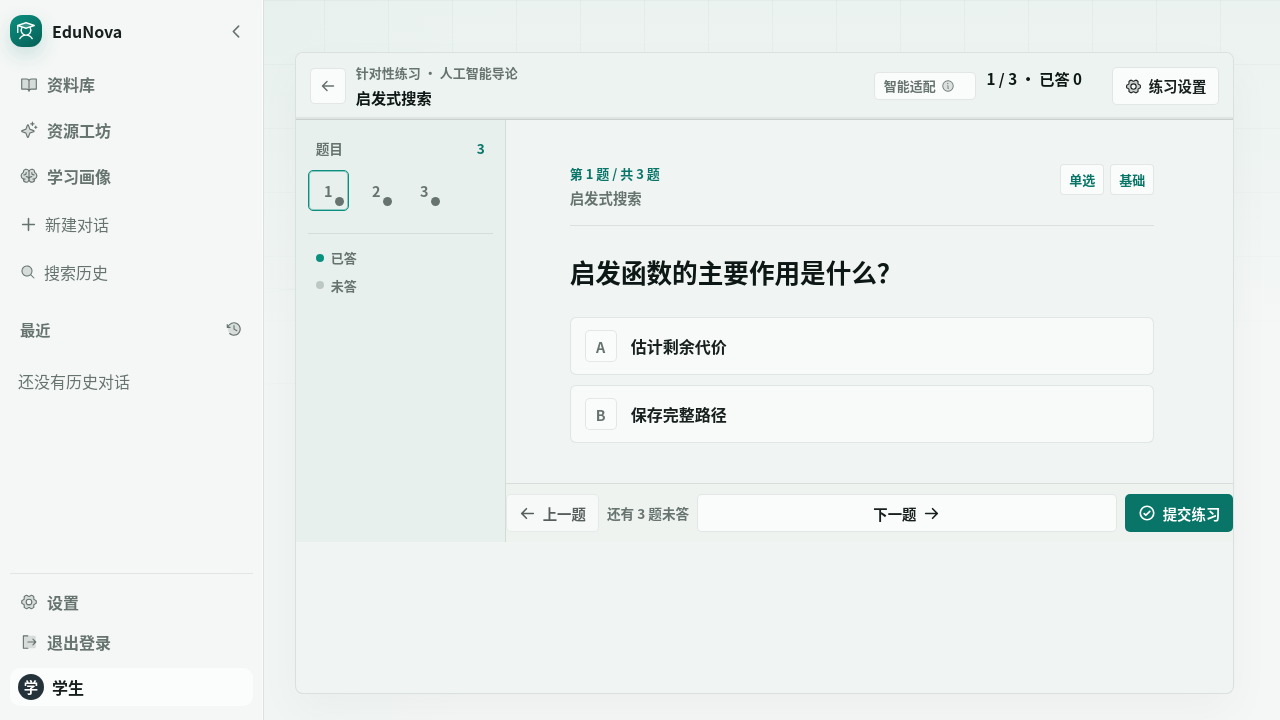
PracticePage › confirms incomplete submission and moves back to the first unanswered question when cancelled
This screenshot has width=1280, height=720.
What coordinates should you click on to do the following:
click the button "A 估计剩余代价"
I would click on:
 (601, 346)
Its box is [570,318,1154,376].
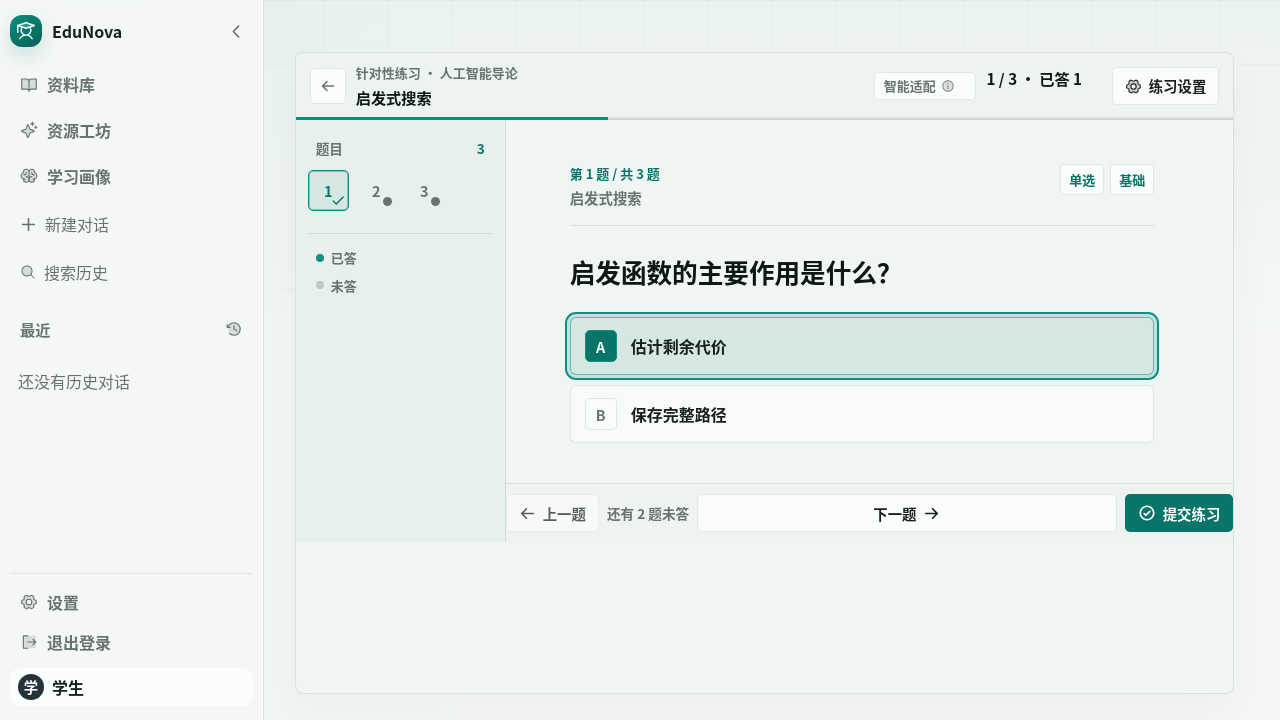
What coordinates should you click on to do the following:
click the button "提交练习"
I would click on:
 (1179, 514)
Its box is [1125,494,1233,532].
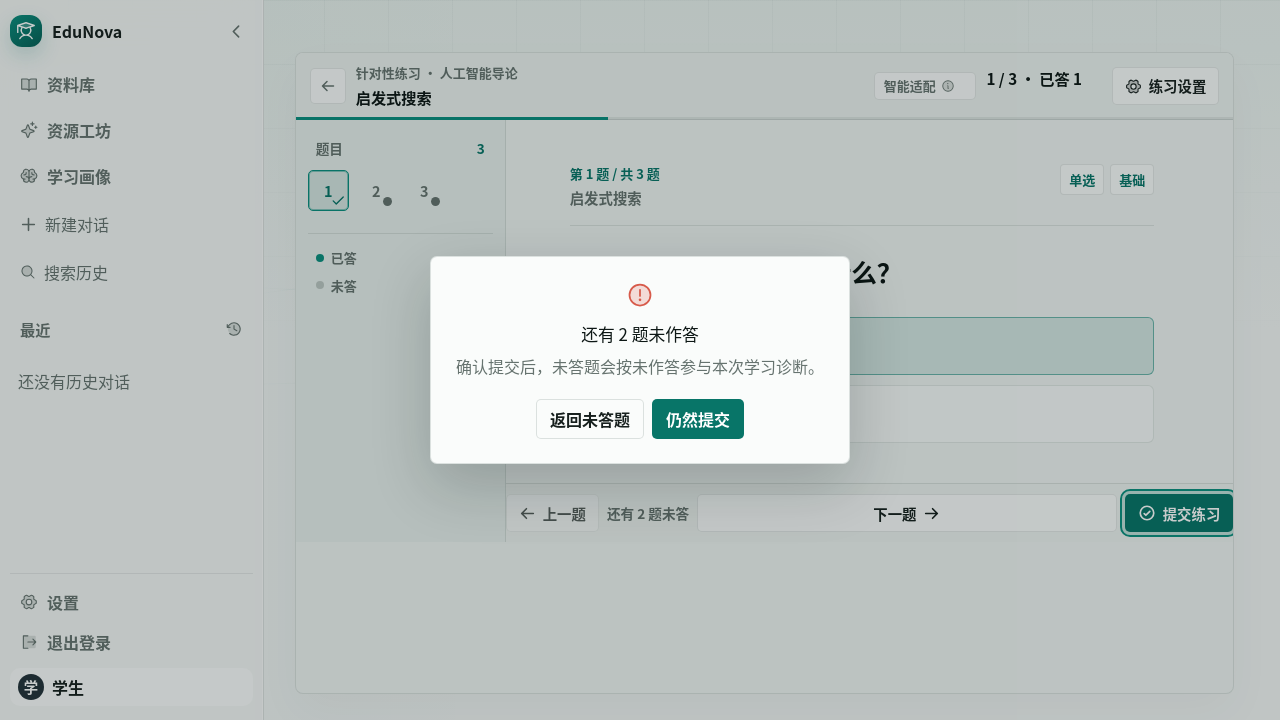
What coordinates should you click on to do the following:
click the button "返回未答题"
I would click on:
 (590, 419)
Its box is [536,399,644,439].
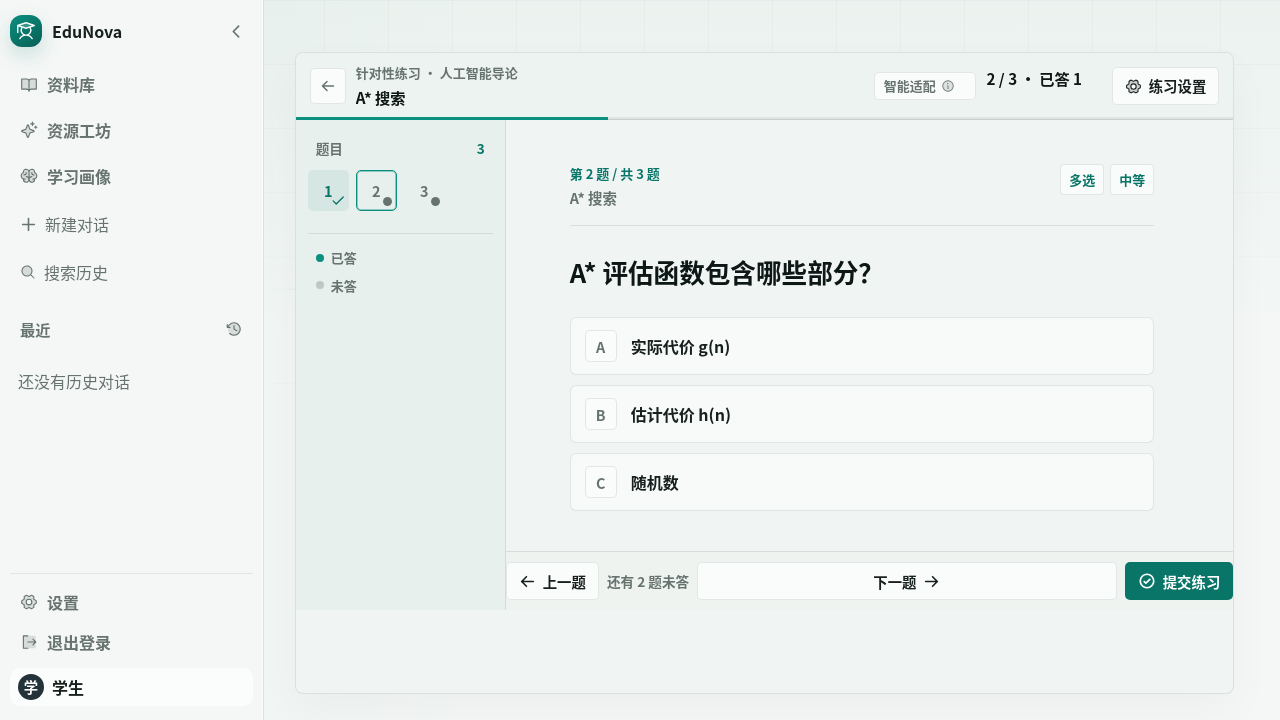
Check: the heading "A* 评估函数包含哪些部分？" is shown, box [570,253,884,290]
What coordinates should you click on to do the following:
click the button "提交练习"
I would click on:
 (1179, 582)
Its box is [1125,562,1233,600].
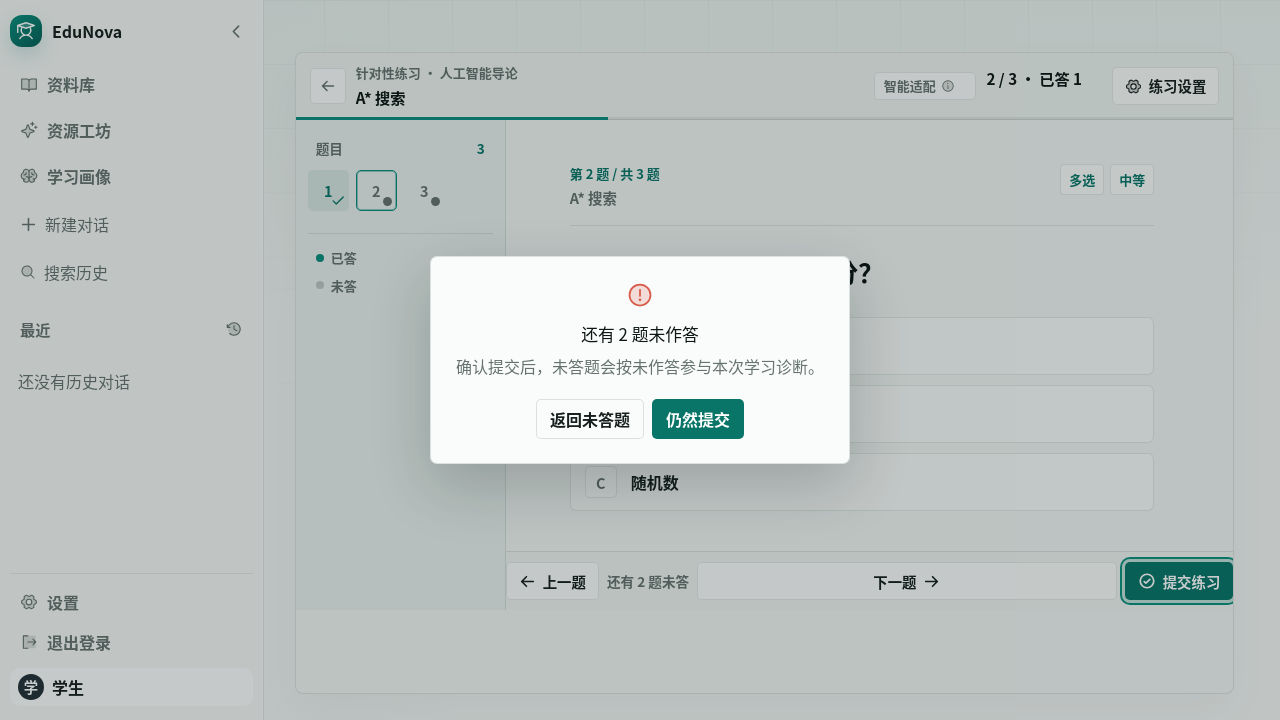
What coordinates should you click on to do the following:
click the button "仍然提交"
I would click on:
 (698, 419)
Its box is [652,399,744,439].
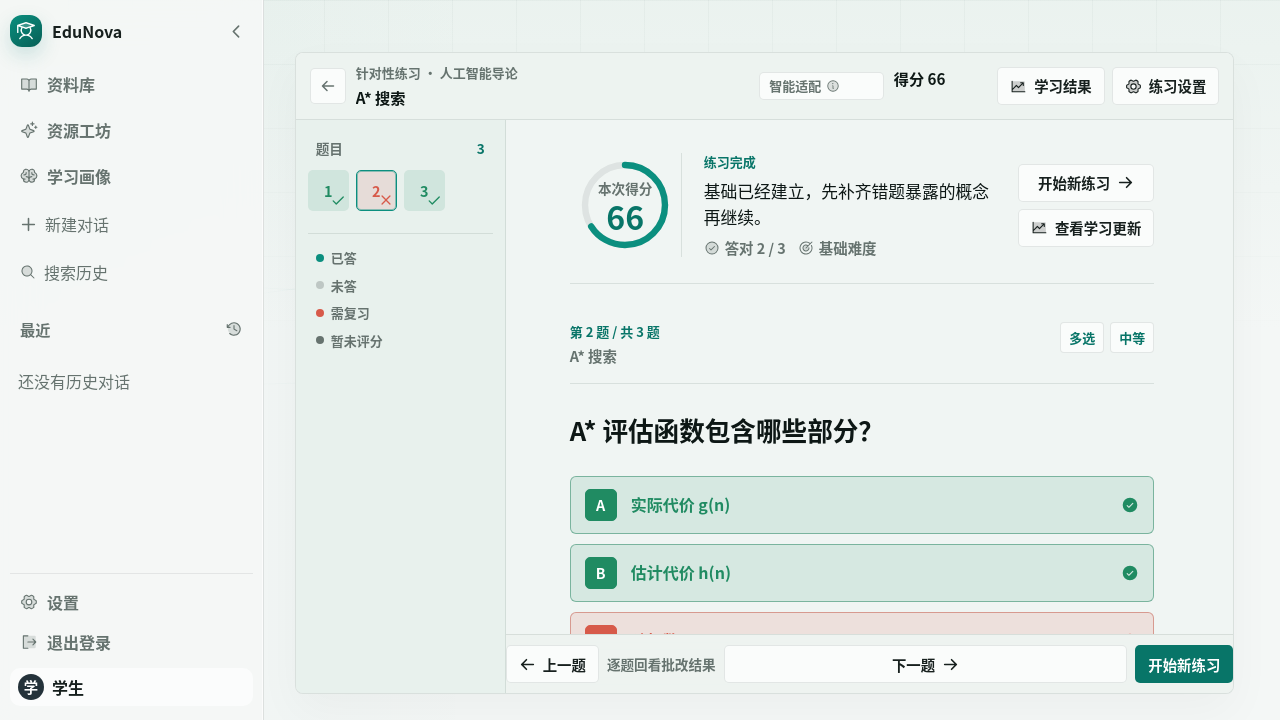
Check: the element named "练习结果摘要" is shown, box [570,152,1154,284]
